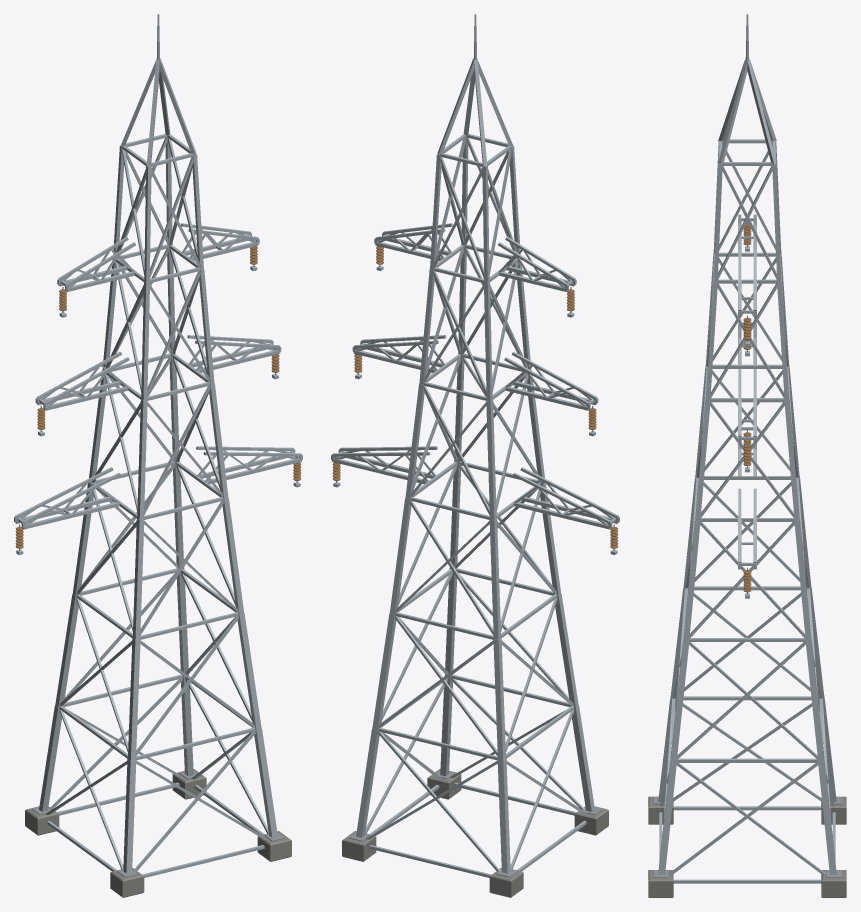
Rendered from UTILITY_04.obj.
3 views of the same model, side by side, from view 1: azimuth 30°, elevation 25°; view 2: azimuth 150°, elevation 25°; view 3: azimuth 270°, elevation 25° (orthographic).
Visible parts, largest first — view 1: UTILITY_04__legs, UTILITY_04__x_brace, UTILITY_04__crossarm, UTILITY_04__ring, UTILITY_04__footing, UTILITY_04__peak, UTILITY_04__insulator_string; view 2: UTILITY_04__legs, UTILITY_04__x_brace, UTILITY_04__crossarm, UTILITY_04__ring, UTILITY_04__footing, UTILITY_04__peak, UTILITY_04__insulator_string; view 3: UTILITY_04__x_brace, UTILITY_04__legs, UTILITY_04__ring, UTILITY_04__crossarm, UTILITY_04__footing, UTILITY_04__peak, UTILITY_04__insulator_string.
Part boxes in pixels (x1,y1,x2,y2): UTILITY_04__legs: [39, 136, 277, 873]; UTILITY_04__x_brace: [46, 137, 268, 871]; UTILITY_04__crossarm: [14, 223, 302, 529]; UTILITY_04__ring: [47, 134, 264, 877]; UTILITY_04__footing: [25, 769, 291, 897]; UTILITY_04__peak: [120, 14, 196, 165]; UTILITY_04__insulator_string: [15, 246, 301, 550]; UTILITY_04__legs: [356, 136, 594, 873]; UTILITY_04__x_brace: [365, 137, 587, 871]; UTILITY_04__crossarm: [331, 223, 619, 529]; UTILITY_04__ring: [369, 134, 586, 877]; UTILITY_04__footing: [342, 769, 608, 897]; UTILITY_04__peak: [437, 14, 513, 165]; UTILITY_04__insulator_string: [332, 246, 618, 550]; UTILITY_04__x_brace: [660, 143, 834, 874]; UTILITY_04__legs: [658, 141, 836, 874]; UTILITY_04__ring: [659, 139, 835, 883]; UTILITY_04__crossarm: [738, 214, 756, 569]; UTILITY_04__footing: [648, 796, 846, 897]; UTILITY_04__peak: [718, 14, 776, 164]; UTILITY_04__insulator_string: [743, 221, 751, 594].
Size of the model in its own units: 13.12 by 36.5 by 7.8.
